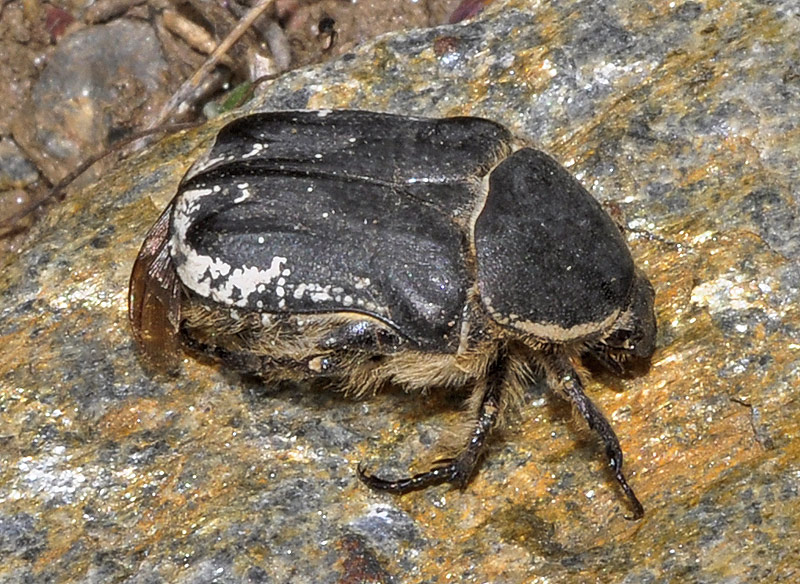Protaetia_oblonga: (125, 102, 683, 529)
